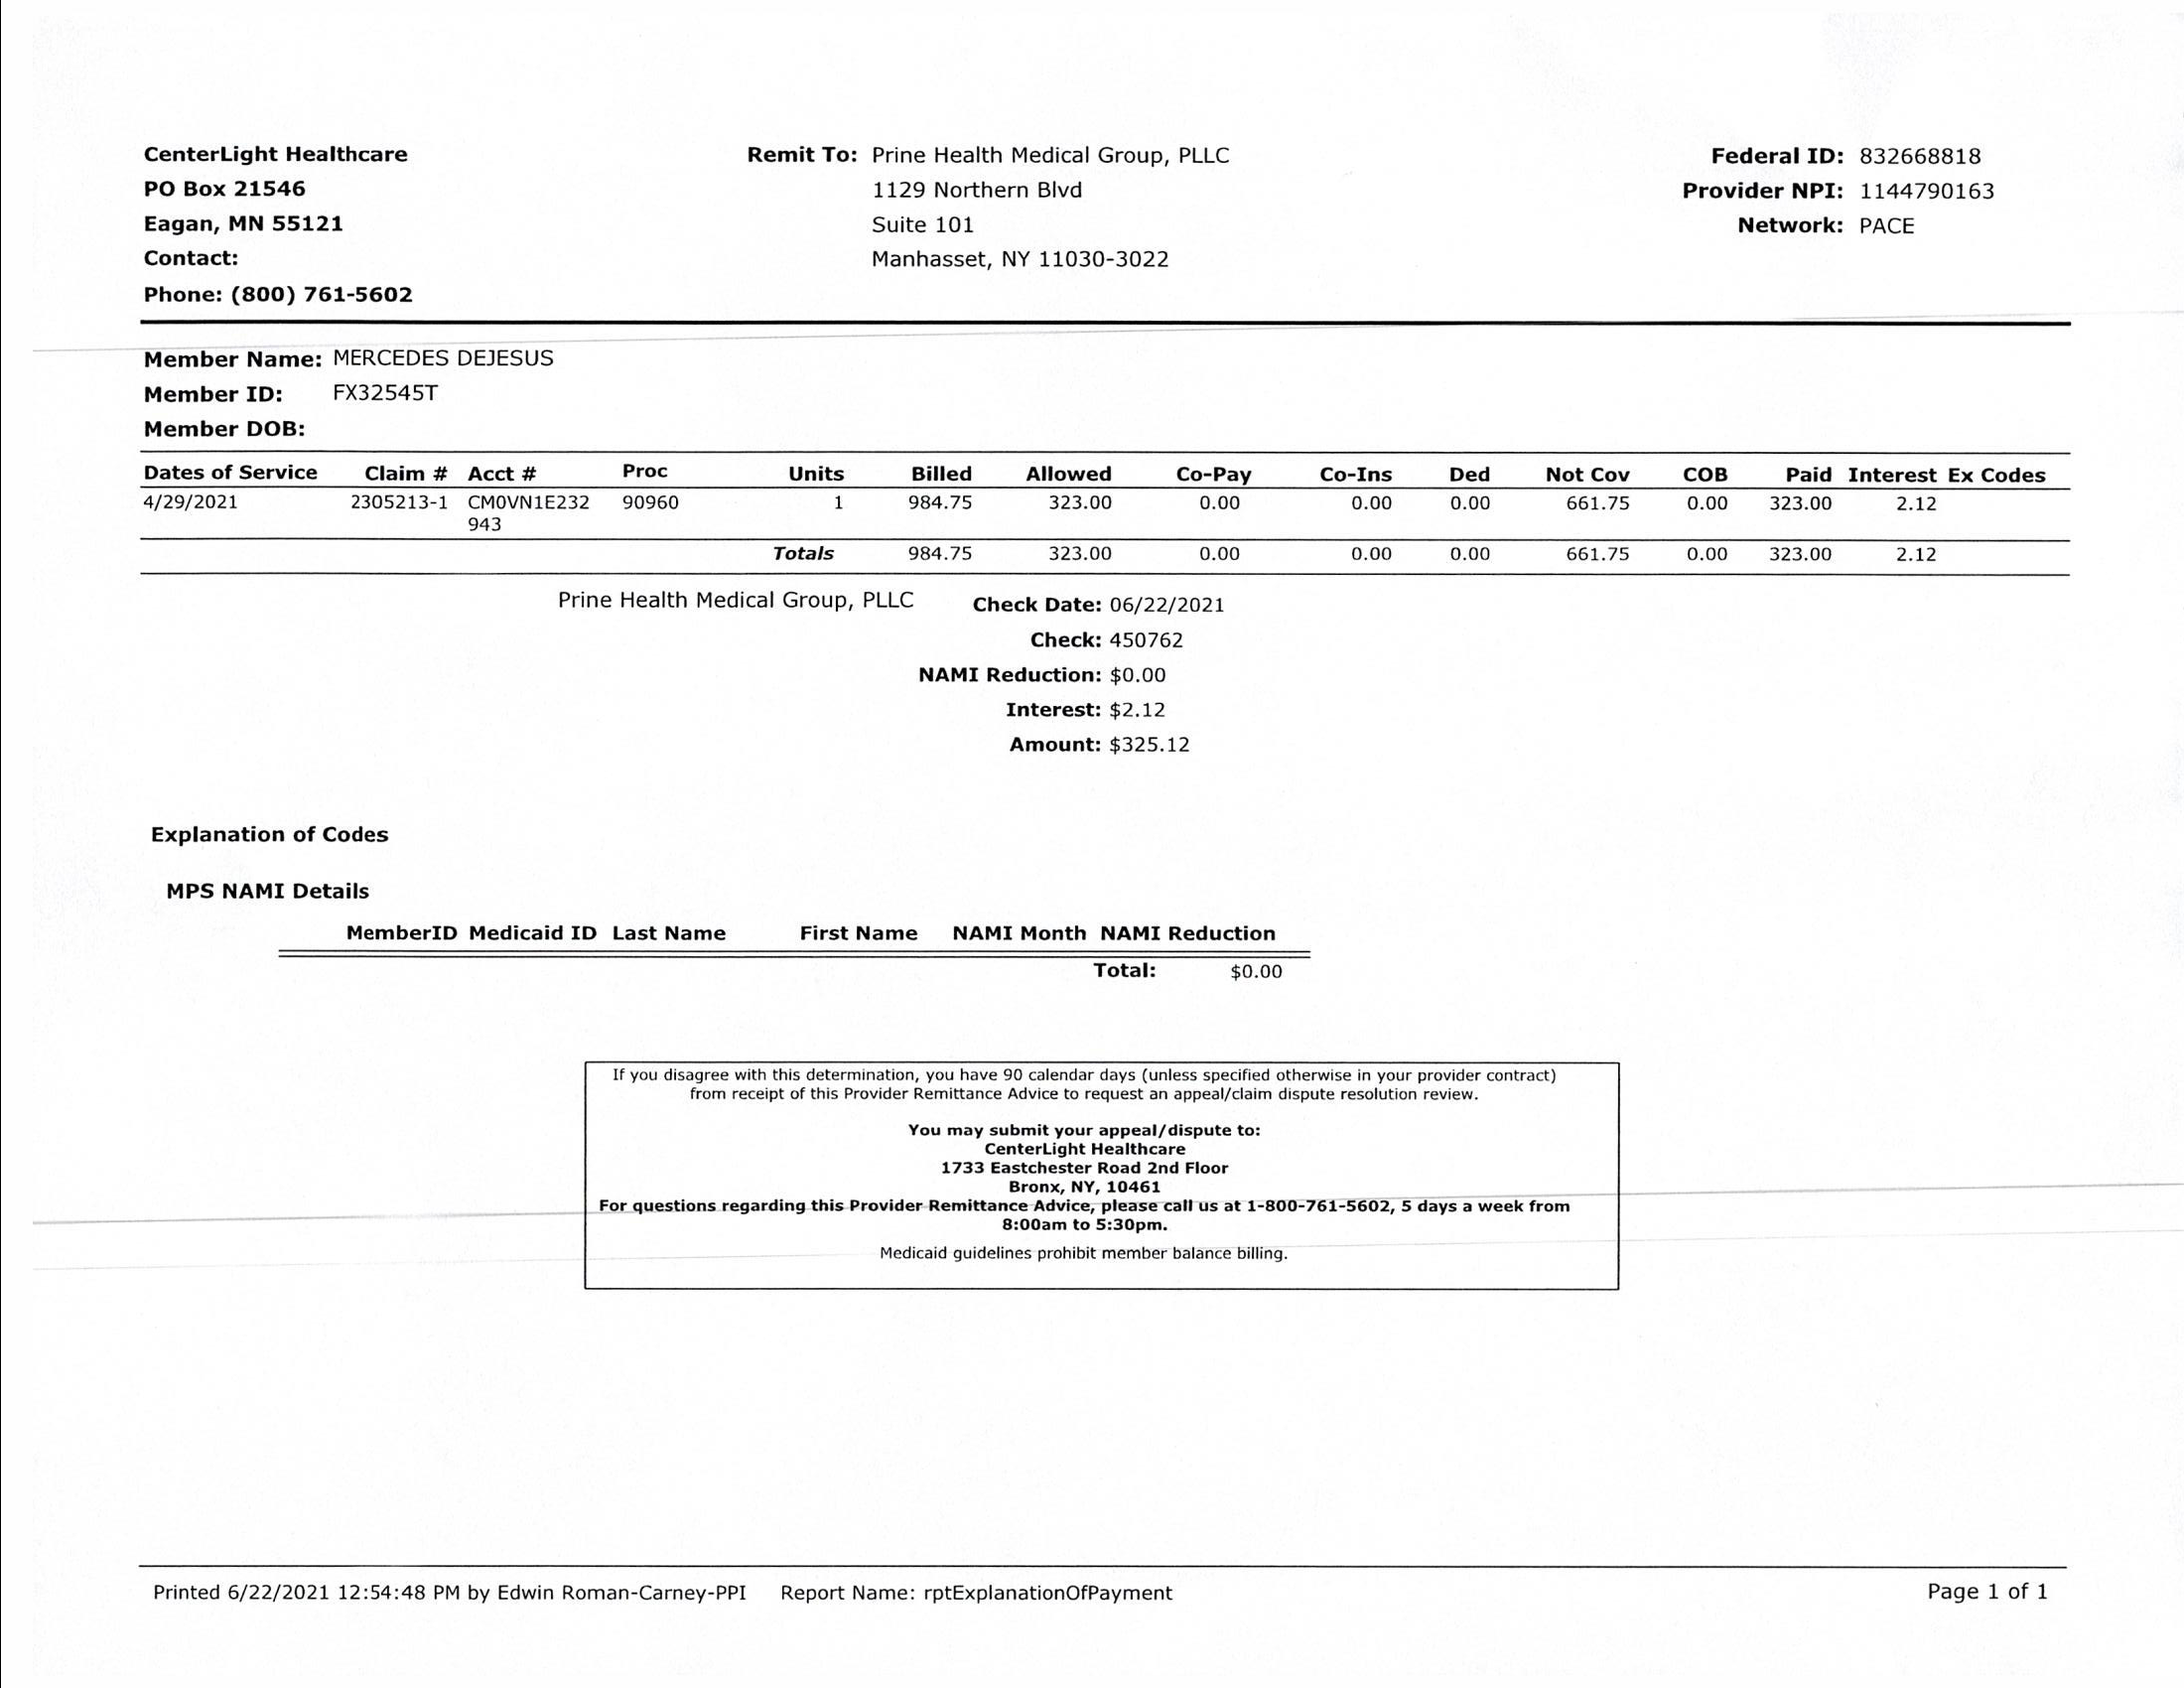data: (739, 129, 1232, 287), (913, 596, 1236, 784), (1652, 119, 2016, 261), (131, 135, 429, 307), (128, 333, 578, 443)
table: (142, 449, 2083, 589)
